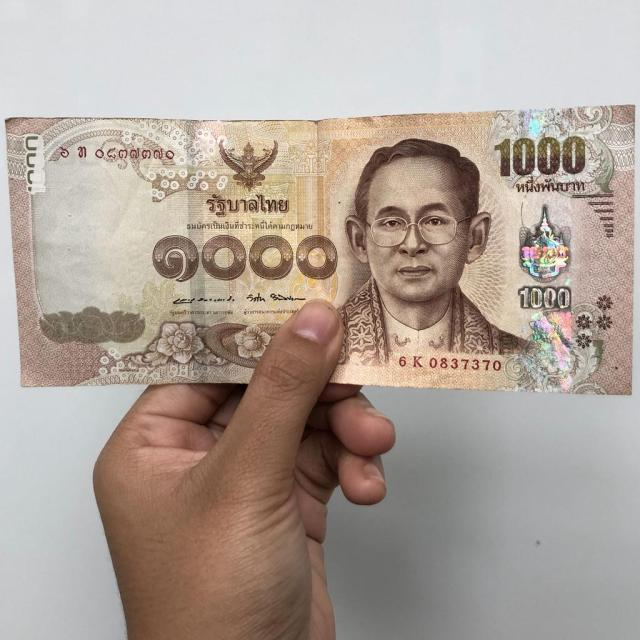THAI1000: (6, 106, 633, 394)
